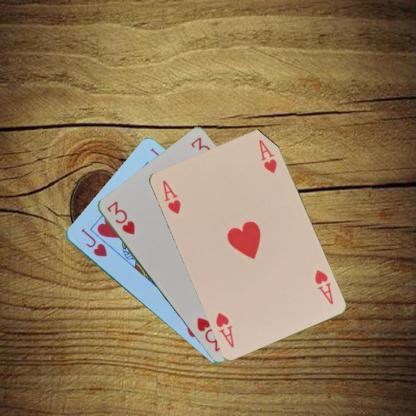3h: (103, 198, 136, 236)
Ah: (159, 178, 182, 216), (312, 267, 334, 306)
Jh: (78, 226, 108, 258)
